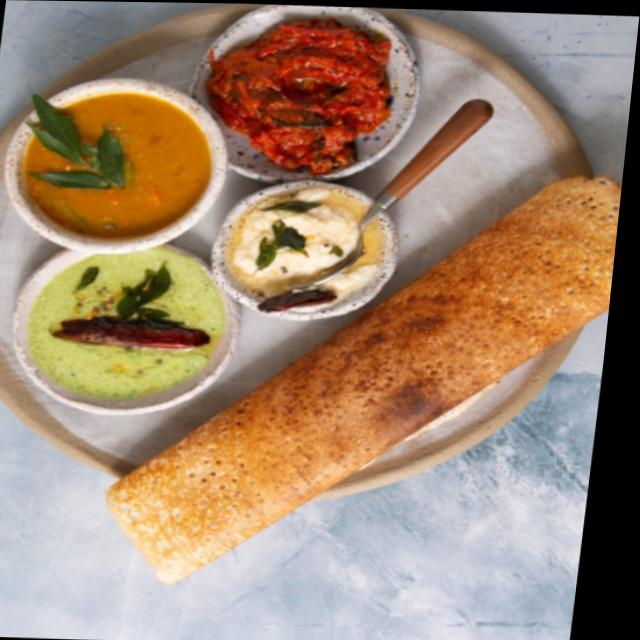DOSA: (121, 173, 622, 583)
GREEN CHUTNEY: (41, 245, 230, 398)
RED CHUTNEY: (206, 18, 391, 174)
SAMBAR: (19, 74, 226, 245)
WHITE CHUTNEY: (213, 178, 399, 314)
